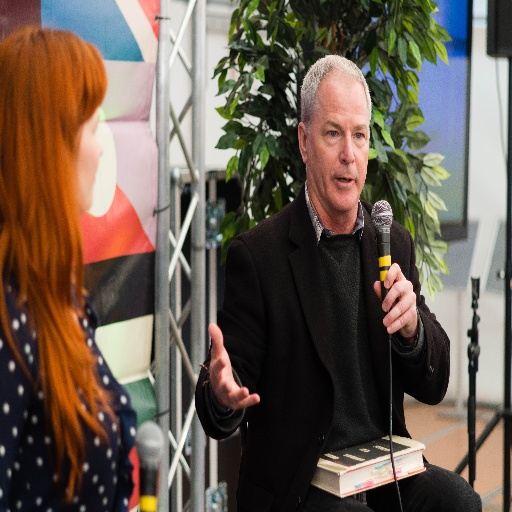hand: (205, 322, 260, 410), (376, 263, 414, 336)
